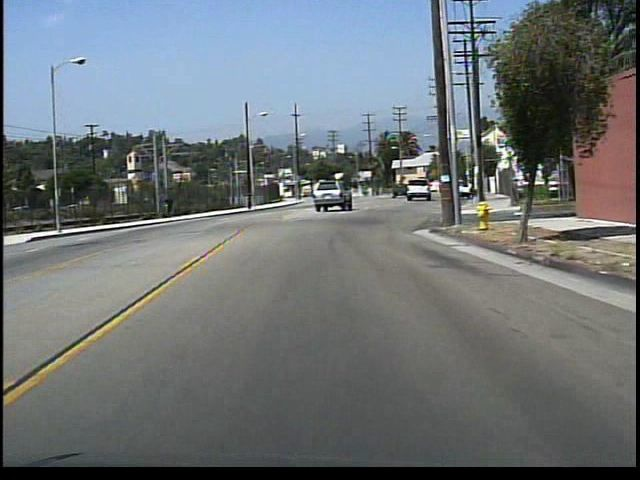person: (165, 190, 179, 220)
